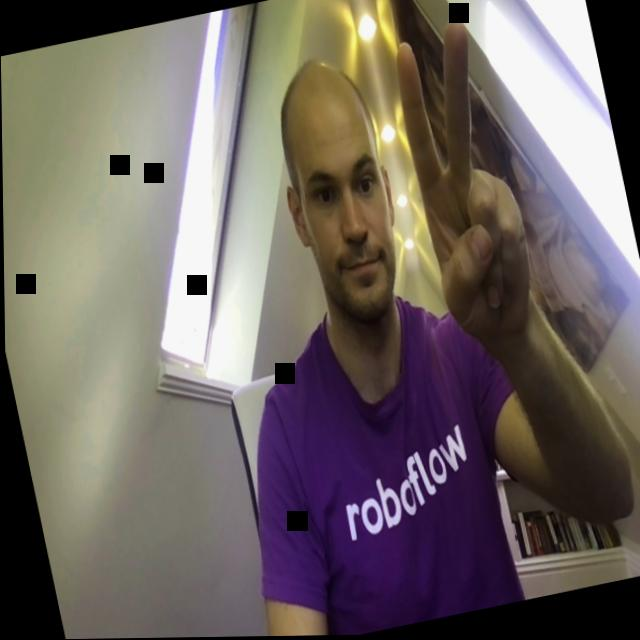Scissors: (362, 0, 556, 353)
